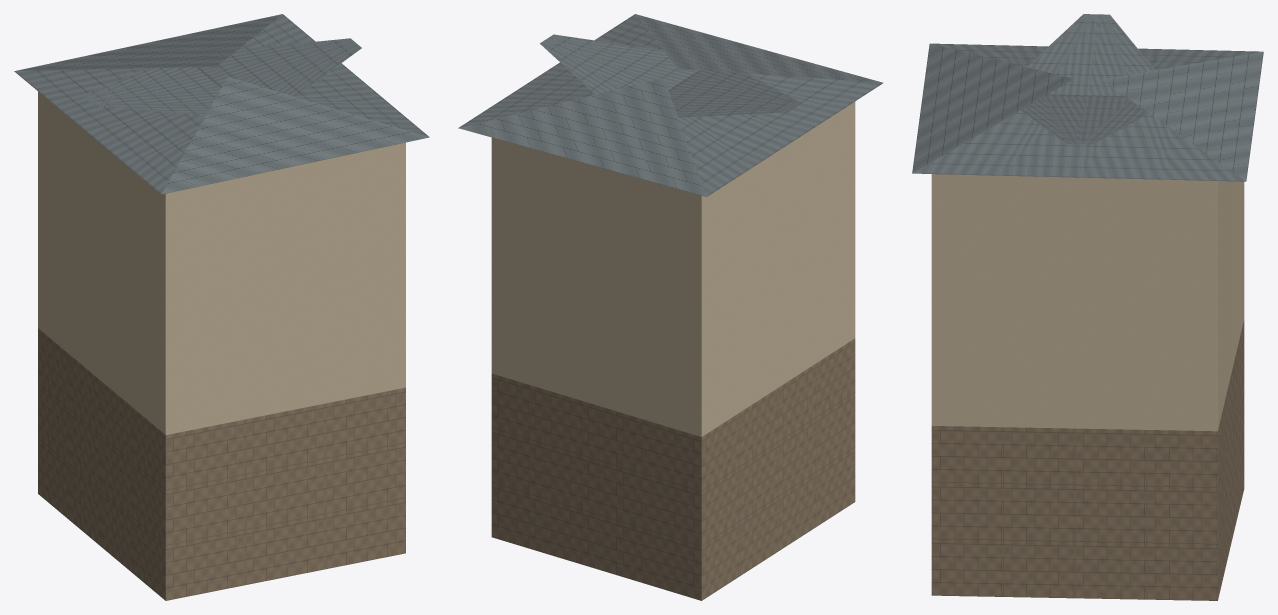
File: bld_c44_-39_415.gltf
The picture shows the model from 3 angles, left to right: view 1: azimuth 30°, elevation 25°; view 2: azimuth 150°, elevation 25°; view 3: azimuth 270°, elevation 25°; orthographic projection. The views are drawn at different scales.
Parts seen in each view (by area): view 1: bld_c44_-39_415; view 2: bld_c44_-39_415; view 3: bld_c44_-39_415.
Boxes of the visible parts, left/top/right/bottom form: bld_c44_-39_415: left=14, top=14, right=429, bottom=600; bld_c44_-39_415: left=458, top=14, right=883, bottom=600; bld_c44_-39_415: left=912, top=14, right=1263, bottom=600.
Bounding box in the file's own units: 8.9 × 13.9 × 9.58.
Materials: 3 (3 with a texture image).
